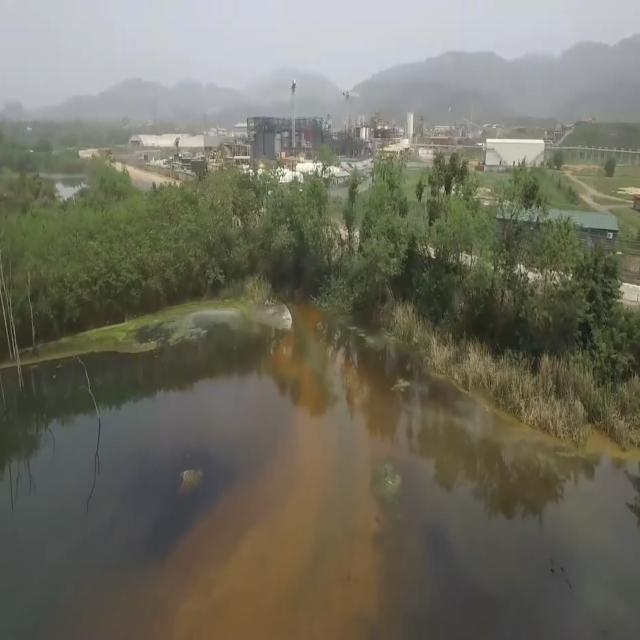yellow_boy: (170, 307, 401, 639)
